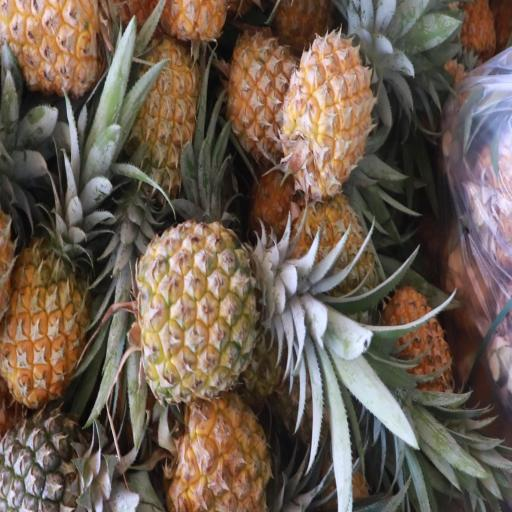------------------------------: (124, 222, 320, 398)
Pineapple - v8 v1: (6, 154, 92, 417), (162, 383, 324, 512), (280, 37, 394, 192), (125, 42, 204, 202), (228, 28, 292, 146)
